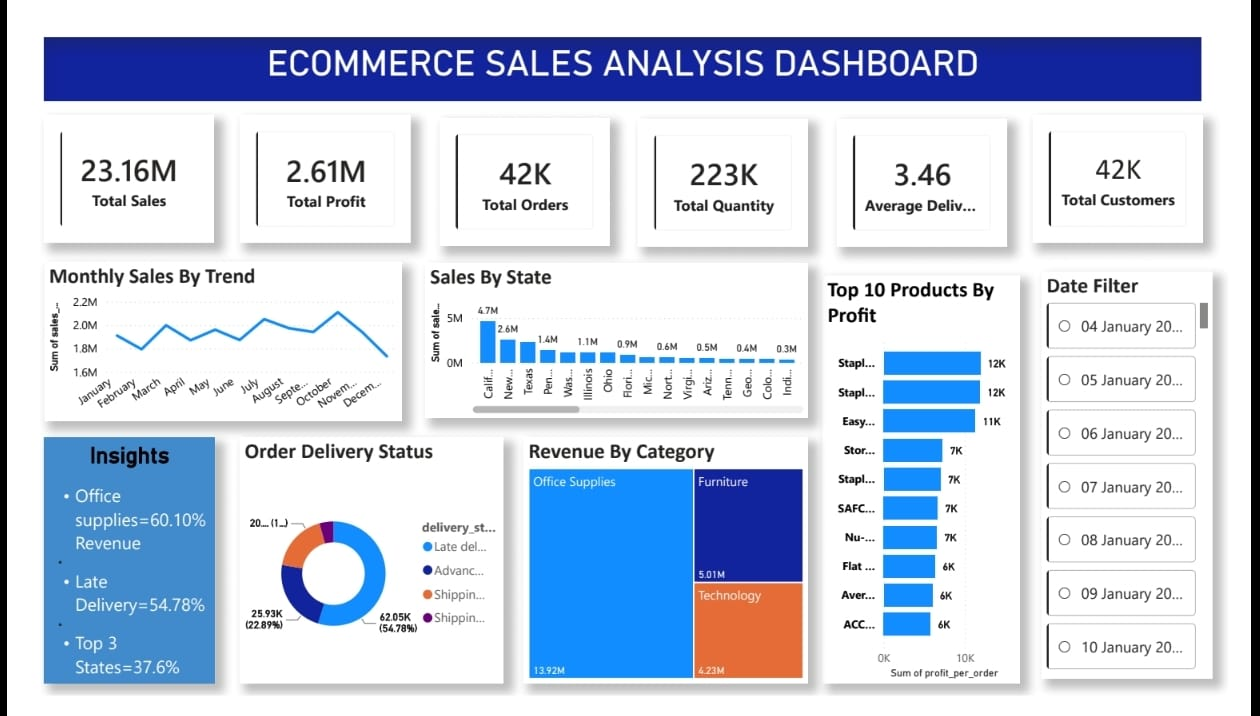

This screenshot's page, from the dashboard's own definition file:
{"tool":"powerbi","page":{"name":"Page 1","canvas":[1280,720],"ordinal":0},"visuals":[{"type":"cardVisual","fields":{"Data":["ecommerce_data_excel.TOTAL SALES"]},"box":[16.1,101,181,136],"z":0},{"type":"cardVisual","fields":{"Data":["ecommerce_data_excel.Total Profit"]},"box":[225.4,101,181.5,136.1],"z":1000},{"type":"cardVisual","fields":{"Data":["ecommerce_data_excel.Total Orders"]},"box":[437.6,103.9,181.5,136.1],"z":2000},{"type":"cardVisual","fields":{"Data":["ecommerce_data_excel.Total Quantity"]},"box":[649.8,105.4,181.5,136.1],"z":3000},{"type":"cardVisual","fields":{"Data":["ecommerce_data_excel.Average Delivery Days"]},"box":[862,105.4,181.5,136.1],"z":4000},{"type":"cardVisual","fields":{"Data":["ecommerce_data_excel.Total Customers"]},"box":[1071.2,101,181,136],"z":5000},{"type":"lineChart","title":"Monthly Sales By Trend","fields":{"Category":["ecommerce_data_excel.order_date.Variation.Date Hierarchy.Month"],"Y":["Sum(ecommerce_data_excel.sales_per_order)"]},"box":[16.1,257.6,380.5,169.8],"z":6000},{"type":"clusteredBarChart","title":"Top 10 Products By Profit","fields":{"Category":["ecommerce_data_excel.product_name"],"Y":["Sum(ecommerce_data_excel.profit_per_order)"]},"box":[847.3,272.2,209.3,434.6],"z":7000},{"type":"donutChart","title":"Order Delivery Status","fields":{"Category":["ecommerce_data_excel.delivery_status"],"Y":["CountNonNull(ecommerce_data_excel.order_id)"]},"box":[225.4,444.9,281,262],"z":8000},{"type":"clusteredColumnChart","title":"Sales By State","fields":{"Category":["ecommerce_data_excel.customer_state"],"Y":["Sum(ecommerce_data_excel.sales_per_order)"]},"box":[422.9,259,408.3,165.4],"z":9000},{"type":"treemap","title":"Revenue By Category","fields":{"Values":["Sum(ecommerce_data_excel.sales_per_order)"],"Group":["ecommerce_data_excel.category_name"]},"box":[528.3,444.9,302.9,262],"z":10000},{"type":"advancedSlicerVisual","title":"Date Filter","fields":{"Values":["ecommerce_data_excel.order_date"]},"box":[1081.5,267.8,181.5,434.6],"z":11000},{"type":"textbox","box":[16.1,17.6,1235.1,68.8],"z":12000},{"type":"textbox","box":[16.1,444.9,181.5,262],"z":13000}]}

Visuals, with their boxes in screenshot pixels (x1, y1, x2, y2), scaled from the page's 1280x720 canvas onto the 1260x716 screenshot:
cardVisual - ecommerce_data_excel.TOTAL SALES: Rect(16, 100, 194, 236)
cardVisual - ecommerce_data_excel.Total Profit: Rect(222, 100, 401, 236)
cardVisual - ecommerce_data_excel.Total Orders: Rect(431, 103, 609, 239)
cardVisual - ecommerce_data_excel.Total Quantity: Rect(640, 105, 818, 240)
cardVisual - ecommerce_data_excel.Average Delivery Days: Rect(849, 105, 1027, 240)
cardVisual - ecommerce_data_excel.Total Customers: Rect(1054, 100, 1233, 236)
"Monthly Sales By Trend" lineChart: Rect(16, 256, 390, 425)
"Top 10 Products By Profit" clusteredBarChart: Rect(834, 271, 1040, 703)
"Order Delivery Status" donutChart: Rect(222, 442, 498, 703)
"Sales By State" clusteredColumnChart: Rect(416, 258, 818, 422)
"Revenue By Category" treemap: Rect(520, 442, 818, 703)
"Date Filter" advancedSlicerVisual: Rect(1065, 266, 1243, 698)
textbox: Rect(16, 18, 1232, 86)
textbox: Rect(16, 442, 195, 703)
